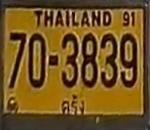0: (28, 32, 46, 89)
3: (61, 33, 78, 87), (100, 33, 117, 87)
7: (9, 32, 25, 89)
8: (80, 32, 97, 87)
9: (120, 34, 136, 87)
TRG: (56, 93, 88, 116)
